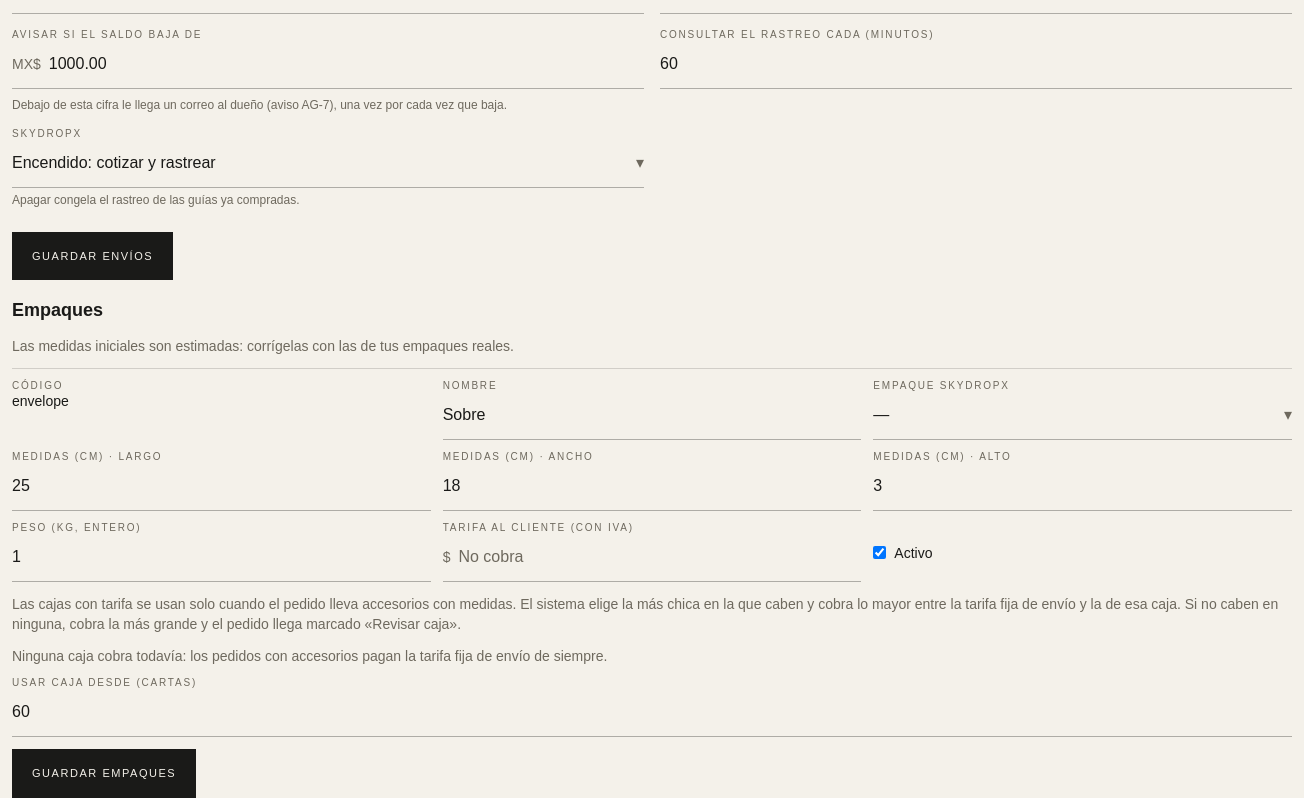
it: §19.22.3 · Carta Porte y empaques con las formas del contrato v1.80.12.2 › `PUT …/packages` ⇒ `400 {reason:no_active_package}` ⇒ «Debe quedar al menos un empaque activo…»
The width and height of the screenshot is (1304, 798).
(page scrolled)
Click the checkbox labelled "Activo" at (880,552), box [873,546,886,559]
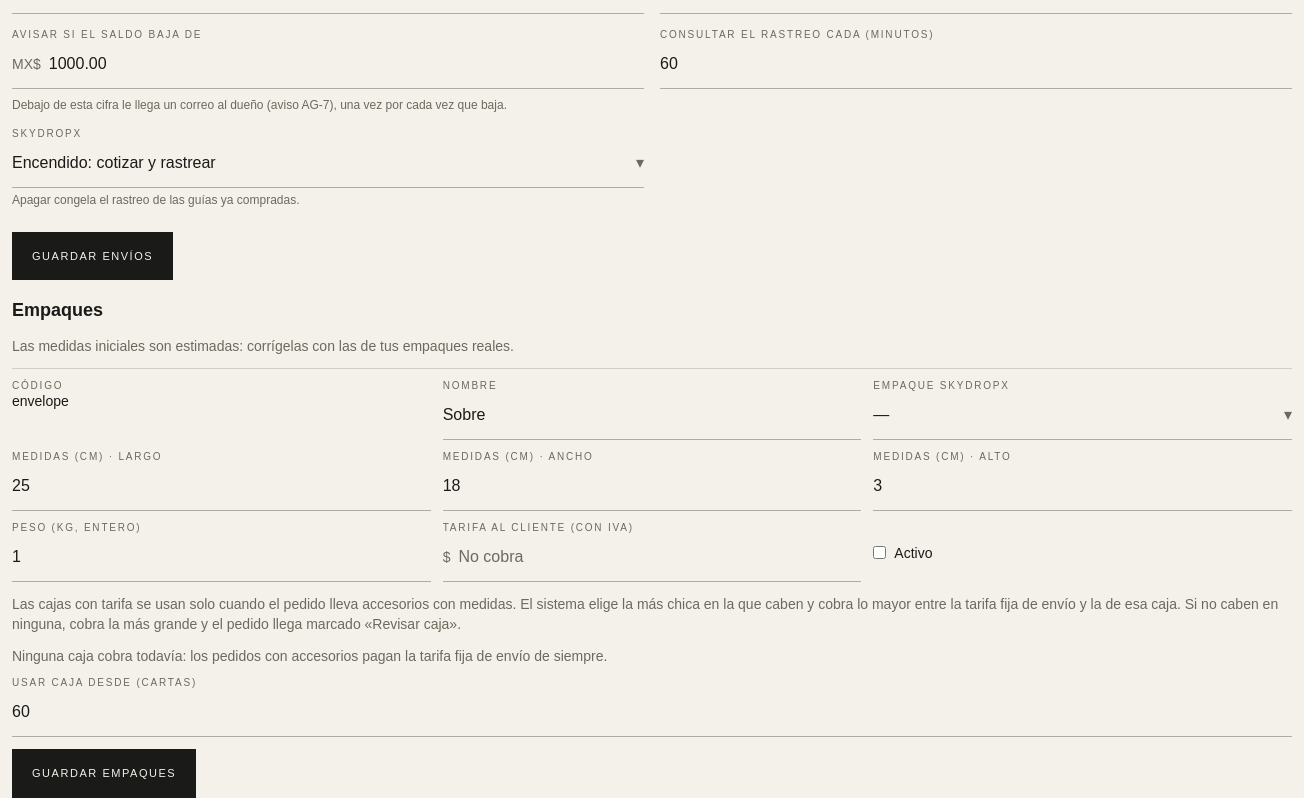
Click the button "Guardar empaques" at (104,773), box [12,749,196,797]
(page scrolled)
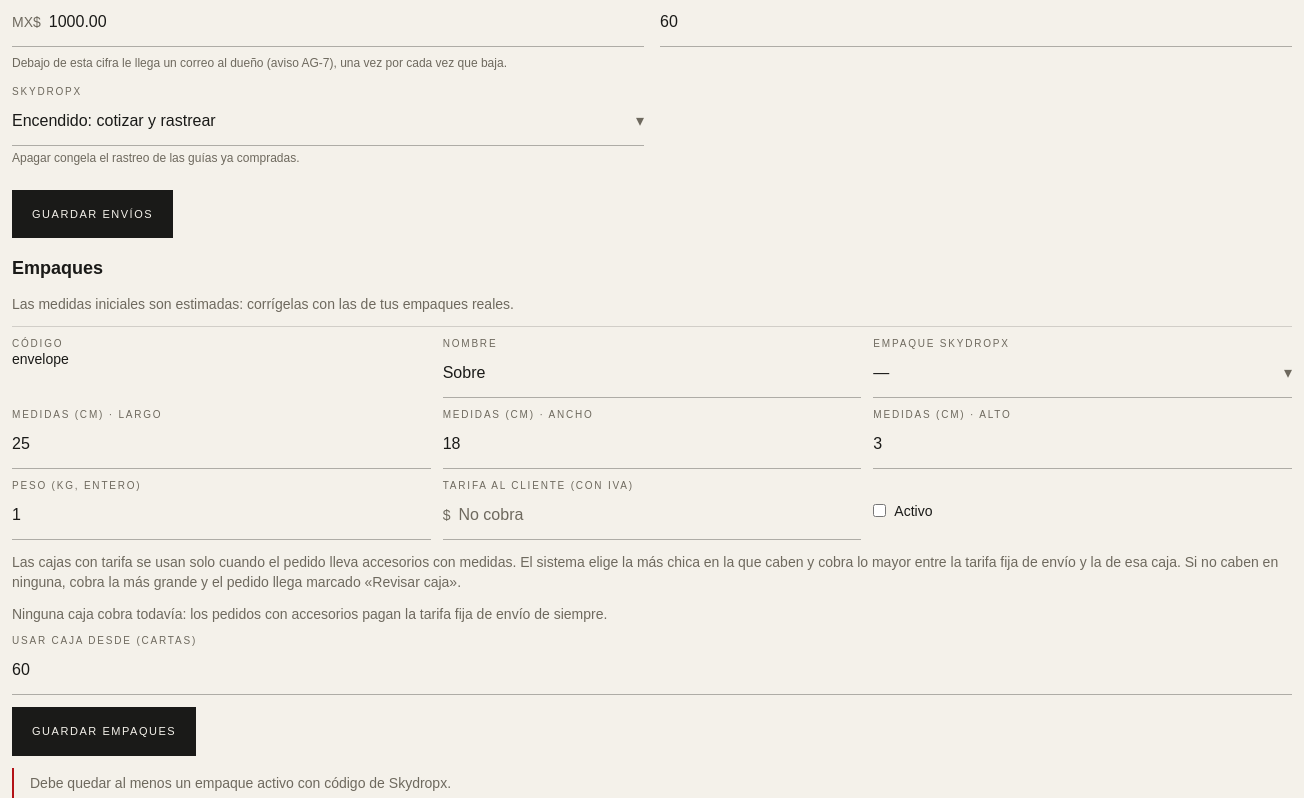
Expected: the text "Debe quedar al menos un empaque activo con código de Skydropx." is shown, [30,774,451,790]
